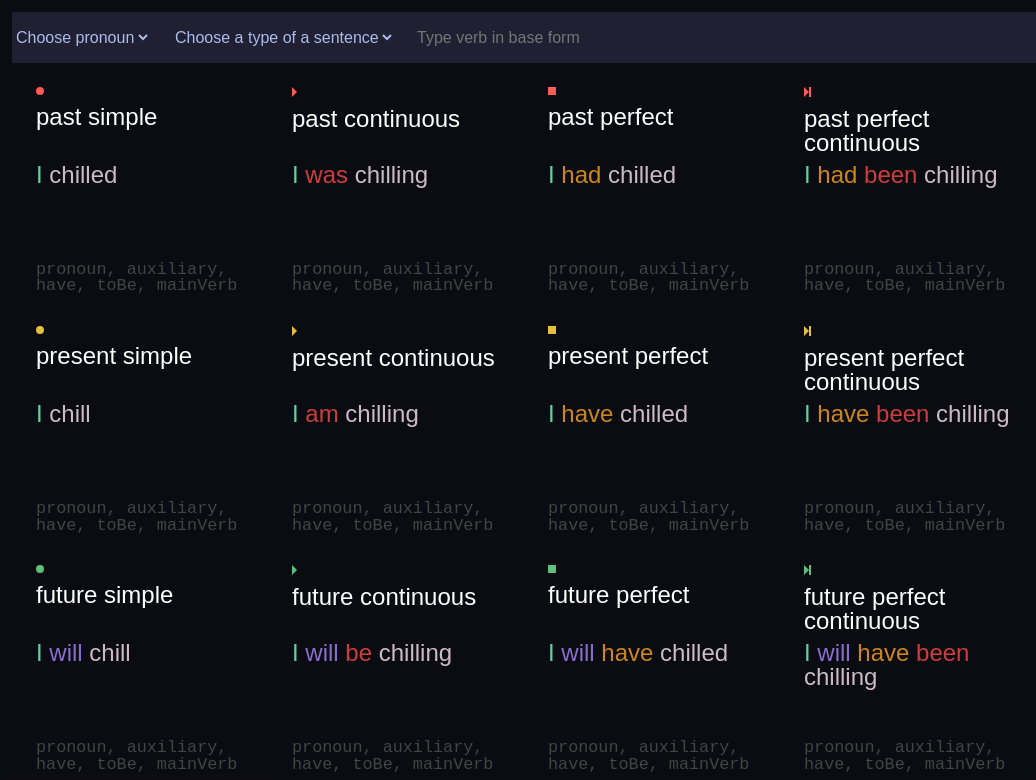
Test case: Adjective phrases are correct › 3rd person
Select "he/she/it" in the 1st dropdown with class "select" at (82, 37), box left=12, top=12, right=151, bottom=62
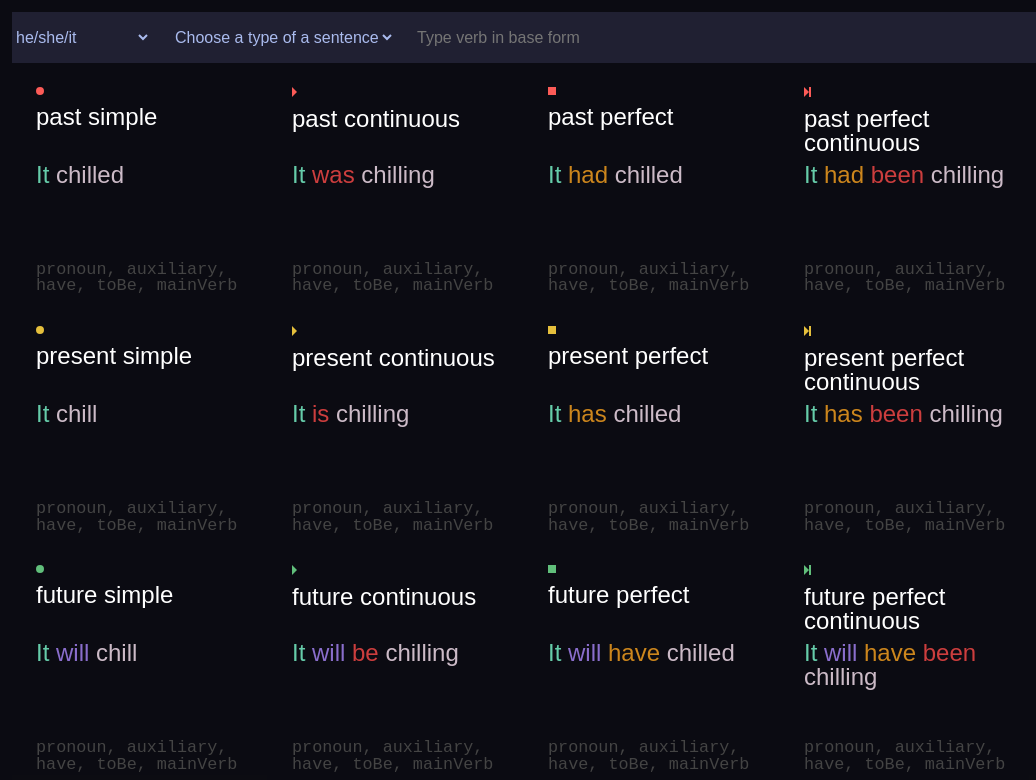
Expected: the element showing "It chilled" is shown, left=12, top=62, right=268, bottom=302
Expected: the element showing "It was chilling" is shown, left=268, top=62, right=524, bottom=302
Expected: the element showing "It had chilled" is shown, left=524, top=62, right=780, bottom=302
